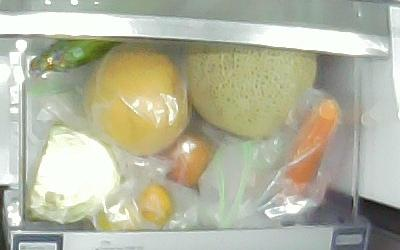cabbage_vinyl: (29, 124, 120, 223)
carrot_vinyl: (280, 100, 338, 198)
melon: (186, 44, 317, 140)
pear_vinyl: (83, 50, 191, 154)
prune_vinyl: (160, 131, 210, 187)
tangerine_vinyl: (137, 182, 174, 225), (98, 205, 140, 231)
zucchini: (28, 39, 122, 75)
